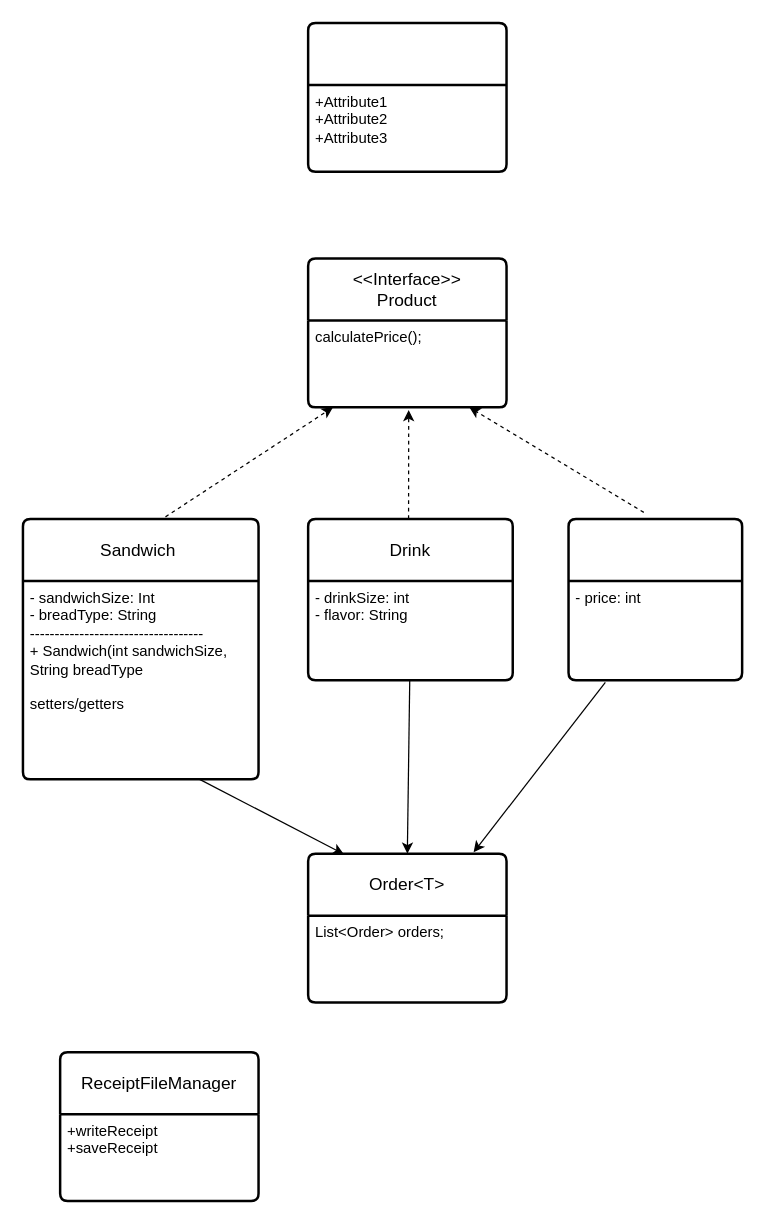
Some shapes in this 764 by 1223 pixel diagram are drawn without their labels. Each missing label, with the box of its shape:
Chips: (567, 517, 743, 681)
Order: (306, 21, 507, 172)
